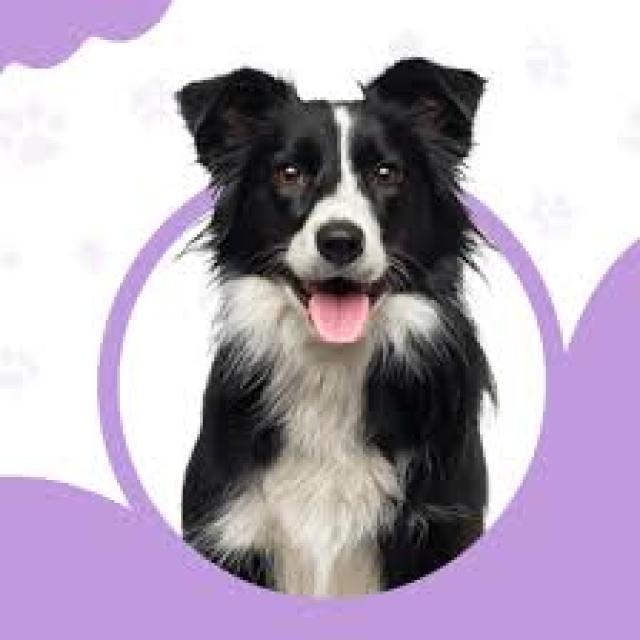BORDER_COLLIE: (153, 49, 522, 588)
